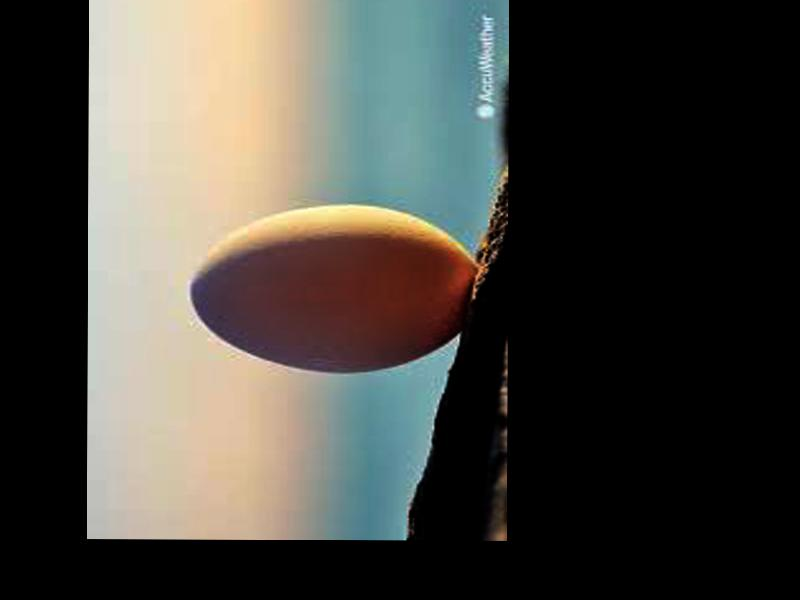Eggs: (187, 203, 473, 374)
